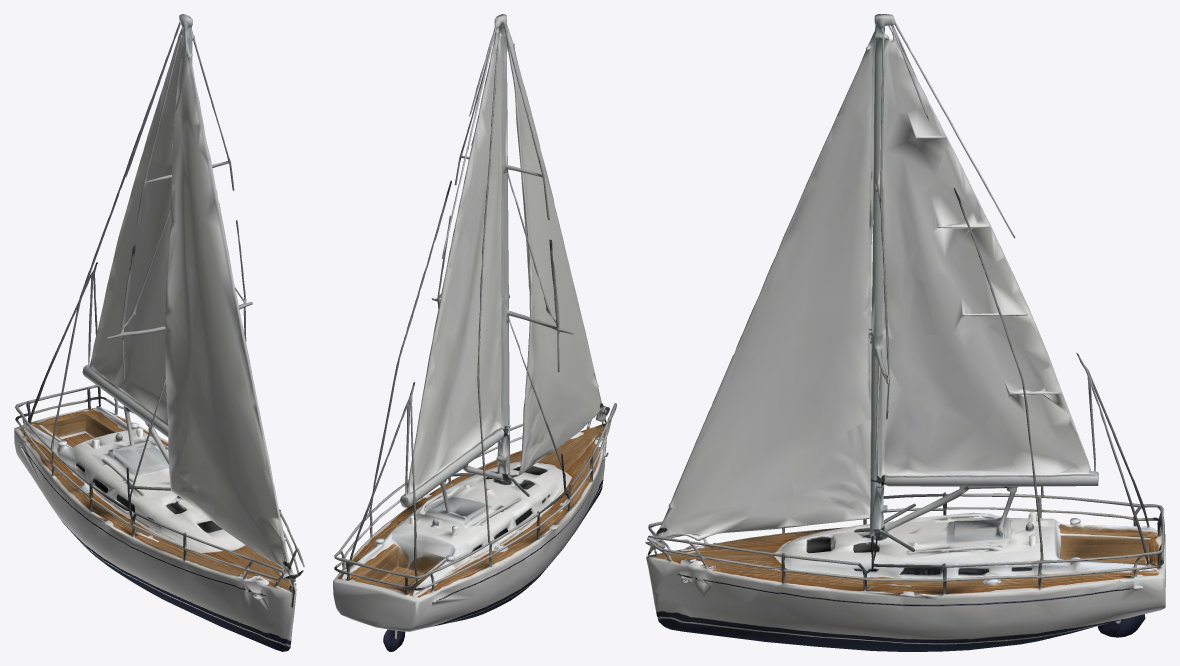
The model's file is veh_sailboat_sloop.glb.
3 views of the same model, side by side, from view 1: azimuth 30°, elevation 25°; view 2: azimuth 150°, elevation 25°; view 3: azimuth 270°, elevation 25° (orthographic). The views are drawn at different scales.
Visible parts, largest first — view 1: tripo_node_640b9abc-88d7-4e5b-b9bf-b3503450f0ca; view 2: tripo_node_640b9abc-88d7-4e5b-b9bf-b3503450f0ca; view 3: tripo_node_640b9abc-88d7-4e5b-b9bf-b3503450f0ca.
Boxes of the visible parts, box(x1,y1,x2,y2) form: tripo_node_640b9abc-88d7-4e5b-b9bf-b3503450f0ca: box(14, 14, 304, 651); tripo_node_640b9abc-88d7-4e5b-b9bf-b3503450f0ca: box(333, 14, 616, 651); tripo_node_640b9abc-88d7-4e5b-b9bf-b3503450f0ca: box(645, 14, 1165, 651).
Bounding box in the file's own units: 0.271 × 0.9996 × 0.7571.
1 material, 1 textured.
